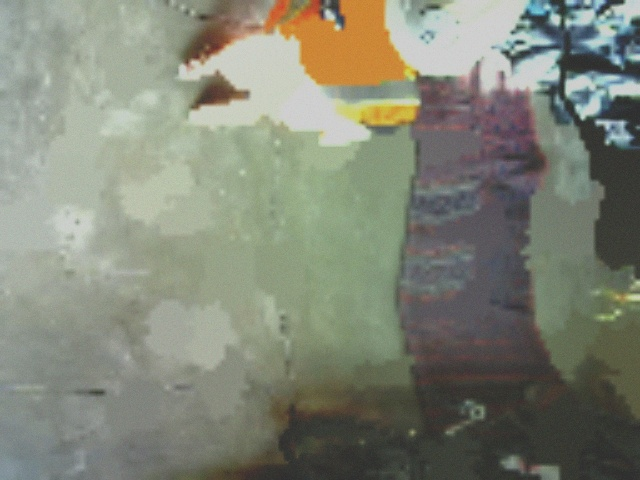two: (414, 6, 464, 50)
